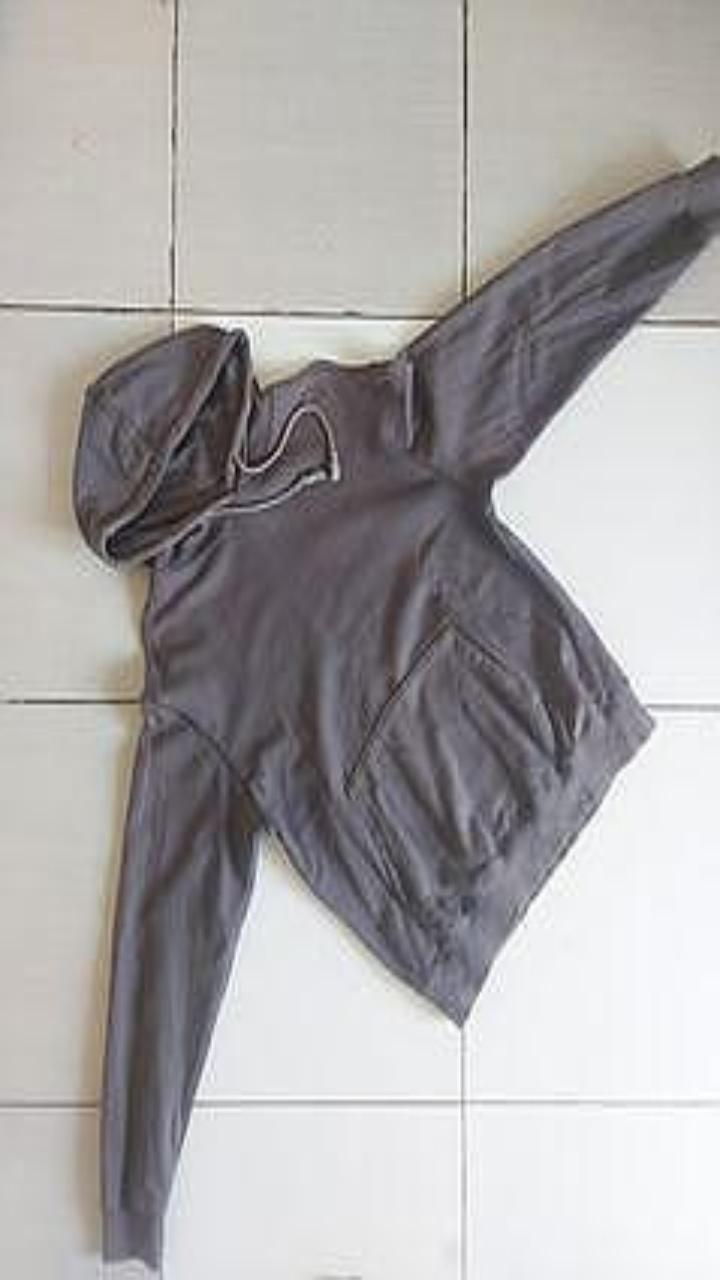Sports_Jacket: (72, 154, 719, 1268)
